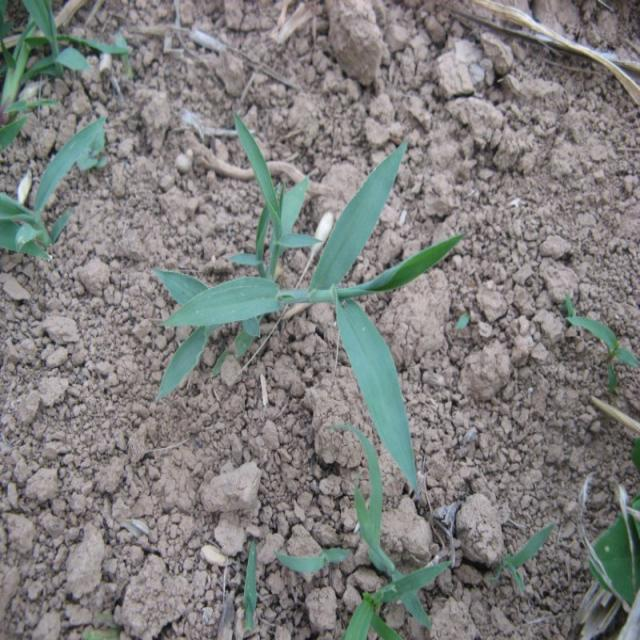bg: (166, 111, 451, 500)
